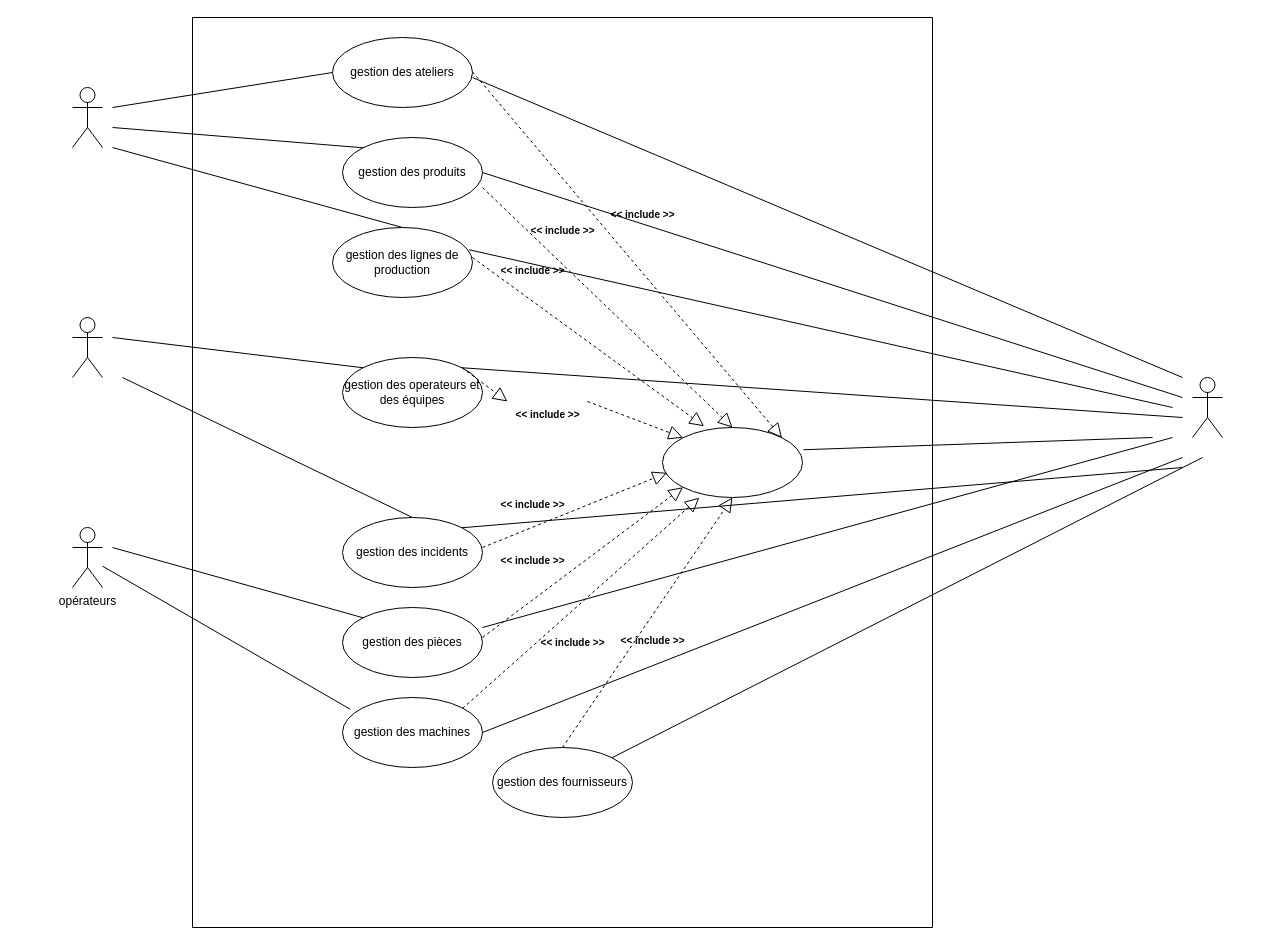
The diagram is 1263 pixels wide and 945 high, and some of its shapes have lost their labels. Here are the shapes that lost their labels. From the top down, the centre of each, then its label:
the point at 87,117: Responsable atéliers
the point at 87,347: Collaborateur responsable
the point at 1207,407: Administrateur
the point at 732,462: s'authentifier
